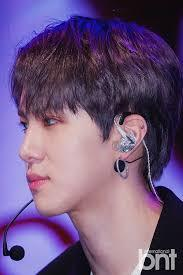earphone: (110, 126, 137, 152)
